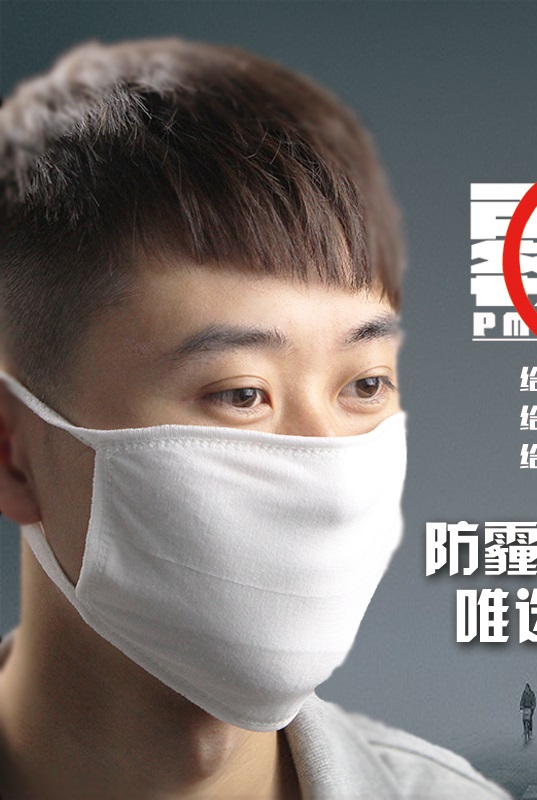face_mask: (80, 285, 406, 731)
